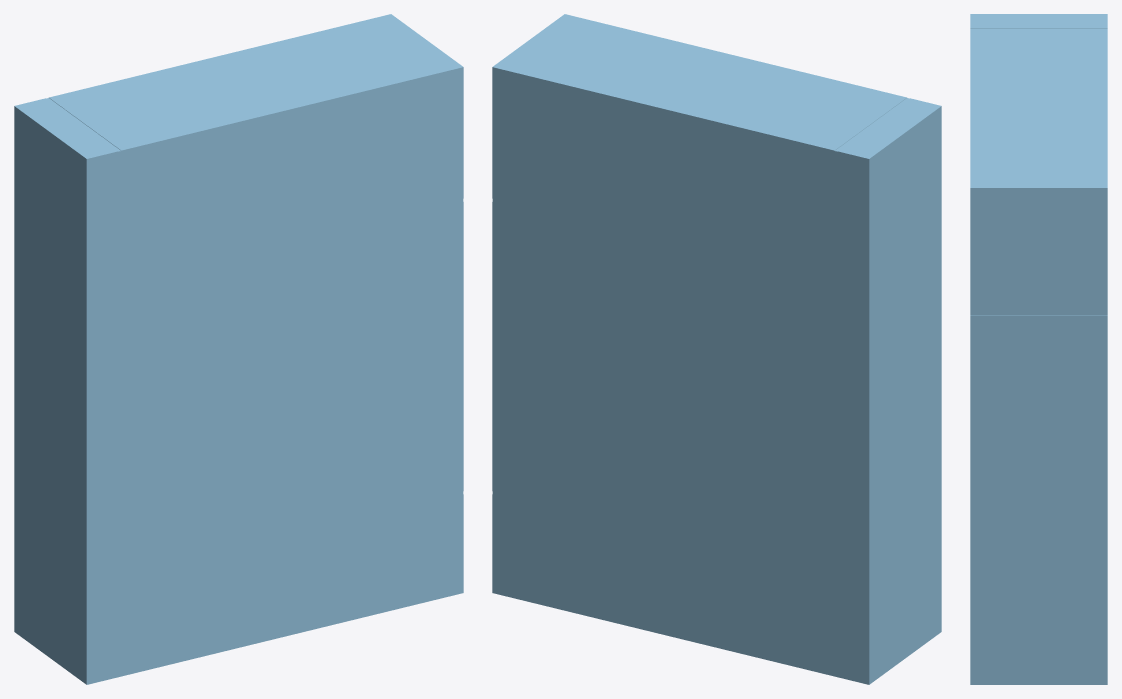
File: block.obj
3 renders of one model, left to right at view 1: azimuth 30°, elevation 25°; view 2: azimuth 150°, elevation 25°; view 3: azimuth 270°, elevation 25°, orthographic. The views are drawn at different scales.
Parts seen in each view (by area): view 1: mesh13, mesh2, mesh15, mesh1; view 2: mesh14, mesh2, mesh15, mesh1; view 3: mesh8, mesh15, mesh12, mesh4, mesh1, mesh6, mesh10, mesh17.
Part boxes in pixels (<box>): mesh13: <box>86,67,463,684</box>; mesh2: <box>14,106,86,684</box>; mesh15: <box>49,14,462,150</box>; mesh1: <box>15,98,117,158</box>; mesh14: <box>492,67,869,684</box>; mesh2: <box>869,106,941,684</box>; mesh15: <box>493,14,906,150</box>; mesh1: <box>838,98,940,158</box>; mesh8: <box>970,315,1107,588</box>; mesh15: <box>970,30,1107,187</box>; mesh12: <box>970,188,1107,311</box>; mesh4: <box>970,591,1107,684</box>; mesh1: <box>970,14,1107,28</box>; mesh6: <box>970,588,1107,591</box>; mesh10: <box>970,312,1107,314</box>; mesh17: <box>970,28,1107,29</box>.
Bounding box in the file's own units: 0.12 × 0.16 × 0.04.
